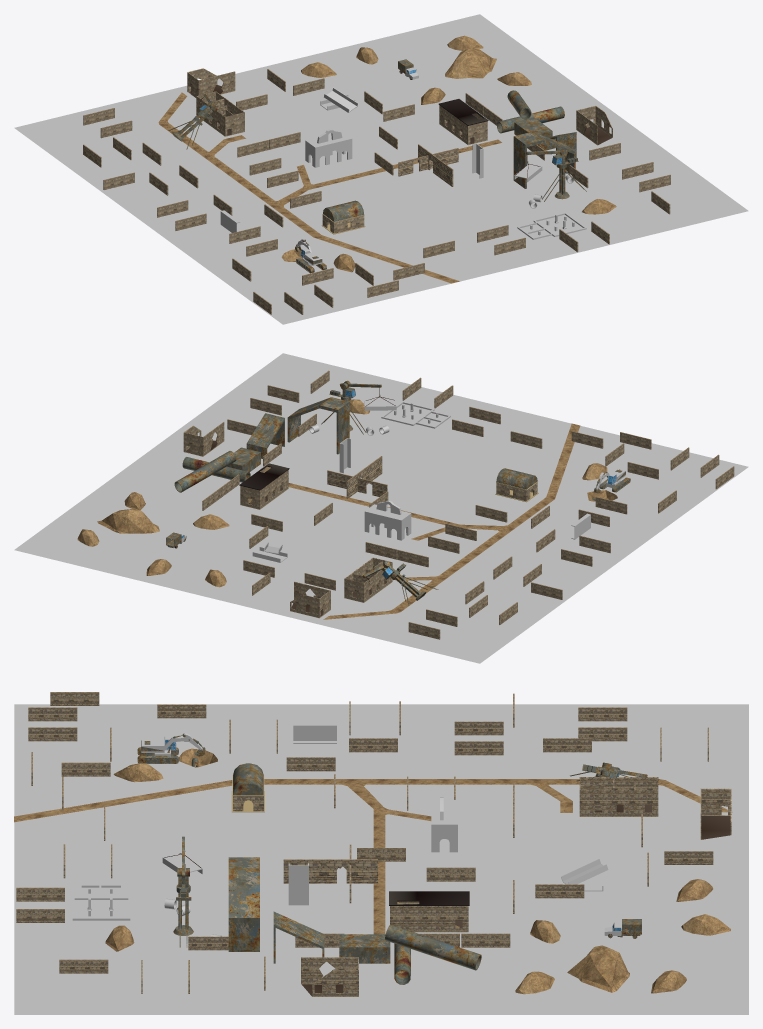
The model's file is Location03.fbx.
3 views of the same model, one above another, from view 1: azimuth 30°, elevation 25°; view 2: azimuth 150°, elevation 25°; view 3: azimuth 270°, elevation 25° (orthographic). The views are drawn at different scales.
Visible parts, largest first — view 1: Plane, Cube.001, Cube.003, Cube.034, Cube.023, Cube.004, Cube.136, Cube.018, Plane.006, Cube.035, Cube.113, Cube.142 (+6 smaller); view 2: Plane, Cube.001, Cube.003, Cube.034, Cube.136, Cube.004, Cube.023, Cube.018, Cube.113, Cube.035, Plane.006, Cube.141 (+7 smaller); view 3: Plane, Cube.001, Cube.003, Cube.034, Cube.136, Cube.142, Cube.035, Cube.023, Plane.006, Cylinder.001, Cube.018, Cube.113 (+37 smaller).
Part boxes in pixels (x1,y1,x2,y2): Plane: [14, 14, 748, 324]; Cube.001: [158, 92, 501, 283]; Cube.003: [438, 99, 488, 145]; Cube.034: [196, 91, 244, 136]; Cube.023: [398, 144, 458, 186]; Cube.004: [305, 129, 352, 167]; Cube.136: [513, 132, 575, 188]; Cube.018: [321, 200, 365, 234]; Plane.006: [445, 48, 496, 78]; Cube.035: [517, 212, 586, 239]; Cube.113: [187, 68, 235, 97]; Cube.142: [576, 105, 612, 145]; Plane: [14, 353, 748, 663]; Cube.001: [288, 423, 580, 619]; Cube.003: [239, 463, 289, 509]; Cube.034: [344, 557, 392, 602]; Cube.136: [287, 397, 349, 454]; Cube.004: [364, 500, 411, 540]; Cube.023: [327, 456, 387, 498]; Cube.018: [495, 468, 538, 502]; Cube.113: [290, 581, 330, 618]; Cube.035: [381, 401, 450, 428]; Plane.006: [97, 508, 159, 533]; Cube.141: [246, 413, 284, 458]; Plane: [14, 704, 748, 1014]; Cube.001: [14, 779, 732, 934]; Cube.003: [389, 891, 469, 932]; Cube.034: [579, 777, 658, 816]; Cube.136: [228, 857, 259, 951]; Cube.142: [301, 957, 358, 996]; Cube.035: [72, 884, 130, 920]; Cube.023: [283, 844, 377, 903]; Plane.006: [567, 945, 629, 992]; Cylinder.001: [385, 924, 481, 970]; Cube.018: [231, 763, 264, 812]; Cube.113: [700, 788, 731, 839].
Size of the model in its own units: 15000 by 1883 by 15004.
